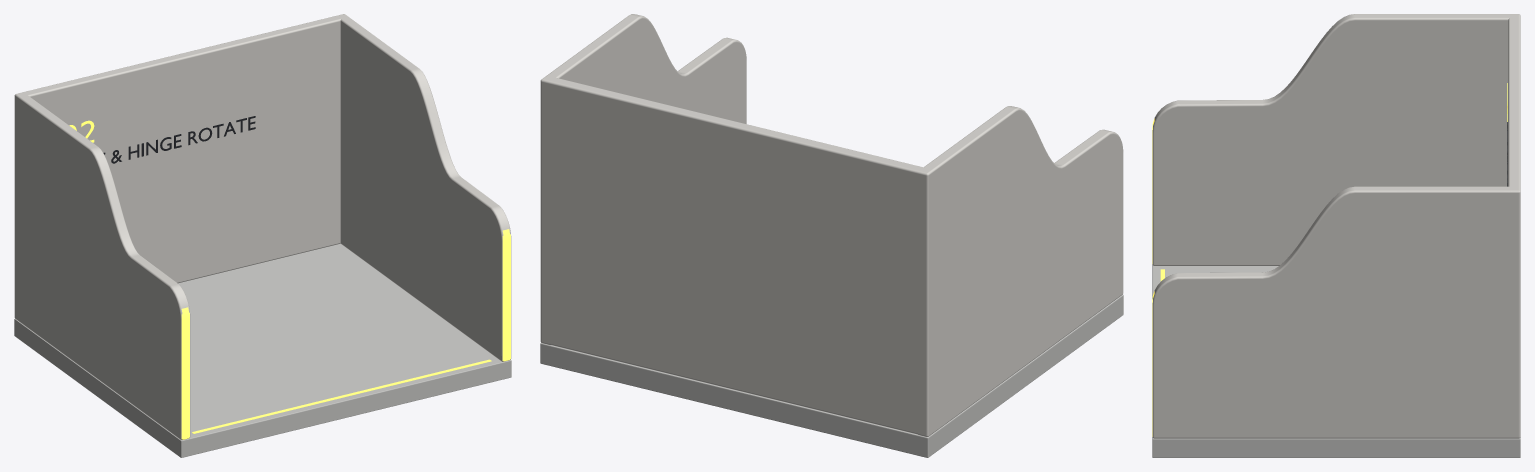
File: Room_02_slide-hinge-rotate.glb
The picture shows the model from 3 angles, left to right: view 1: azimuth 30°, elevation 25°; view 2: azimuth 150°, elevation 25°; view 3: azimuth 270°, elevation 25°; orthographic projection. The views are drawn at different scales.
Parts seen in each view (by area): view 1: Walls, Floor, Label, Accent; view 2: Walls, Floor; view 3: Walls, Floor.
Part boxes in pixels (x1,y1,x2,y2): Walls: [14, 14, 511, 440]; Floor: [14, 243, 511, 457]; Label: [69, 116, 255, 163]; Accent: [192, 359, 491, 433]; Walls: [540, 14, 1123, 436]; Floor: [540, 294, 1123, 457]; Walls: [1152, 14, 1520, 438]; Floor: [1152, 265, 1520, 457].
Size of the model in its own units: 4 by 2.8 by 3.5.
